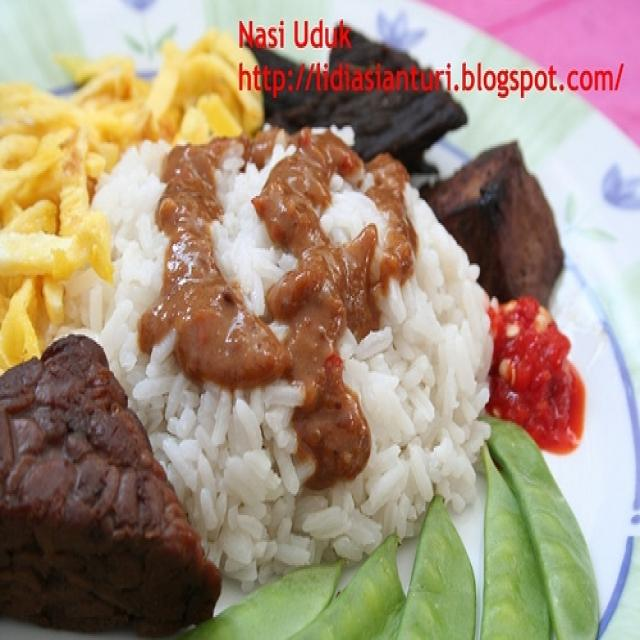米饭主食: (87, 125, 480, 513)
